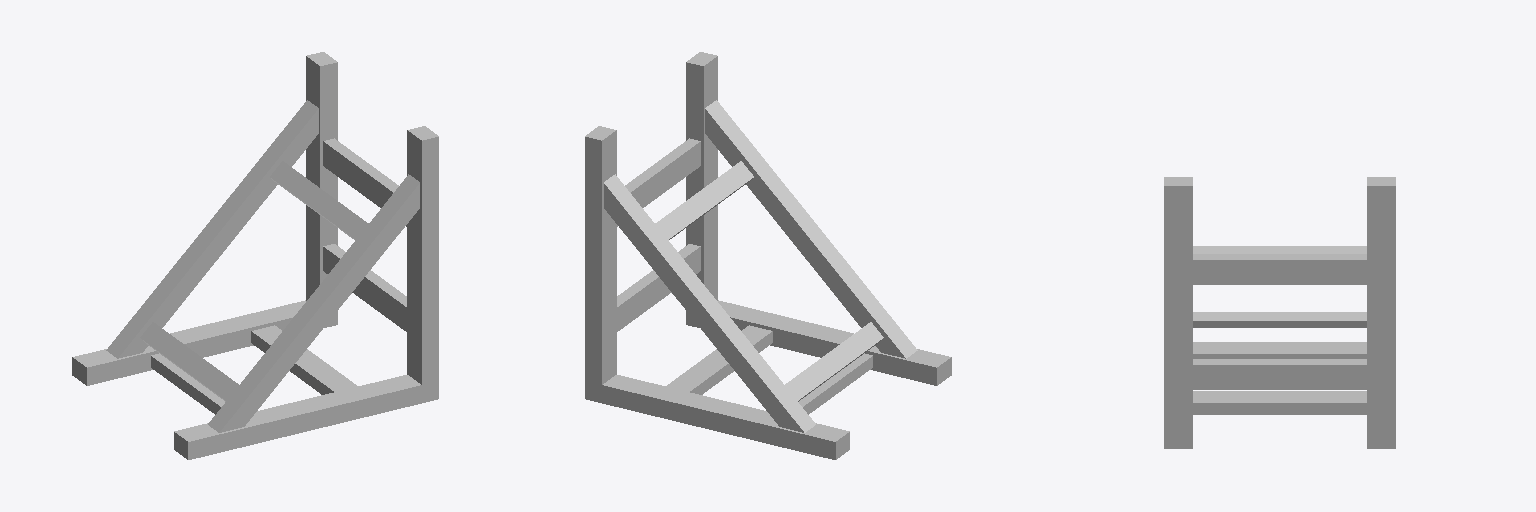
The model's file is woodsupportudx+.obj.
3 renders of one model, left to right at view 1: azimuth 30°, elevation 25°; view 2: azimuth 150°, elevation 25°; view 3: azimuth 270°, elevation 25°, orthographic.
Visible parts, largest first — view 1: bedx+; view 2: bedx+; view 3: bedx+.
Part boxes in pixels (x1,y1,x2,y2): bedx+: (72, 52, 438, 459); bedx+: (585, 52, 951, 459); bedx+: (1164, 177, 1395, 448).
Bounding box in the file's own units: 1 × 1 × 0.8.